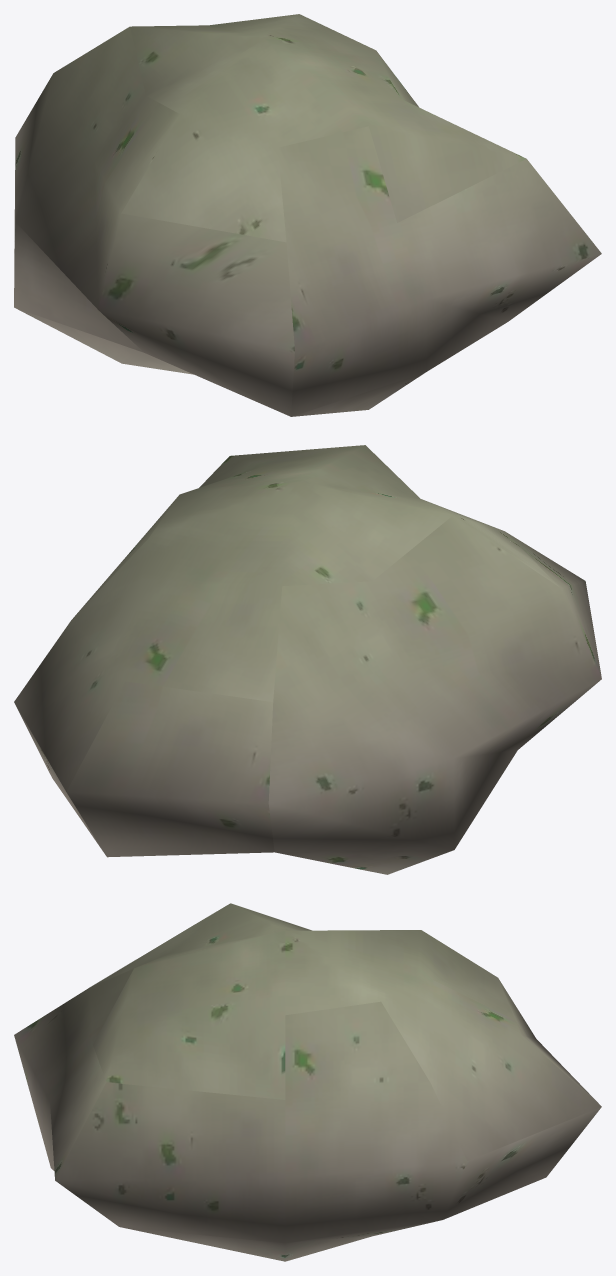
The model's file is rock.2.glb.
The picture shows the model from 3 angles, top to bottom: view 1: azimuth 30°, elevation 25°; view 2: azimuth 150°, elevation 25°; view 3: azimuth 270°, elevation 25°; orthographic projection. The views are drawn at different scales.
Visible parts, largest first — view 1: scenery.rock.2; view 2: scenery.rock.2; view 3: scenery.rock.2.
Boxes of the visible parts, box(x1,y1,x2,y2) form: scenery.rock.2: box(14, 14, 601, 416); scenery.rock.2: box(14, 445, 601, 874); scenery.rock.2: box(14, 903, 601, 1261).
Size of the model in its own units: 0.9614 by 0.732 by 1.24.
1 material, 1 textured.
